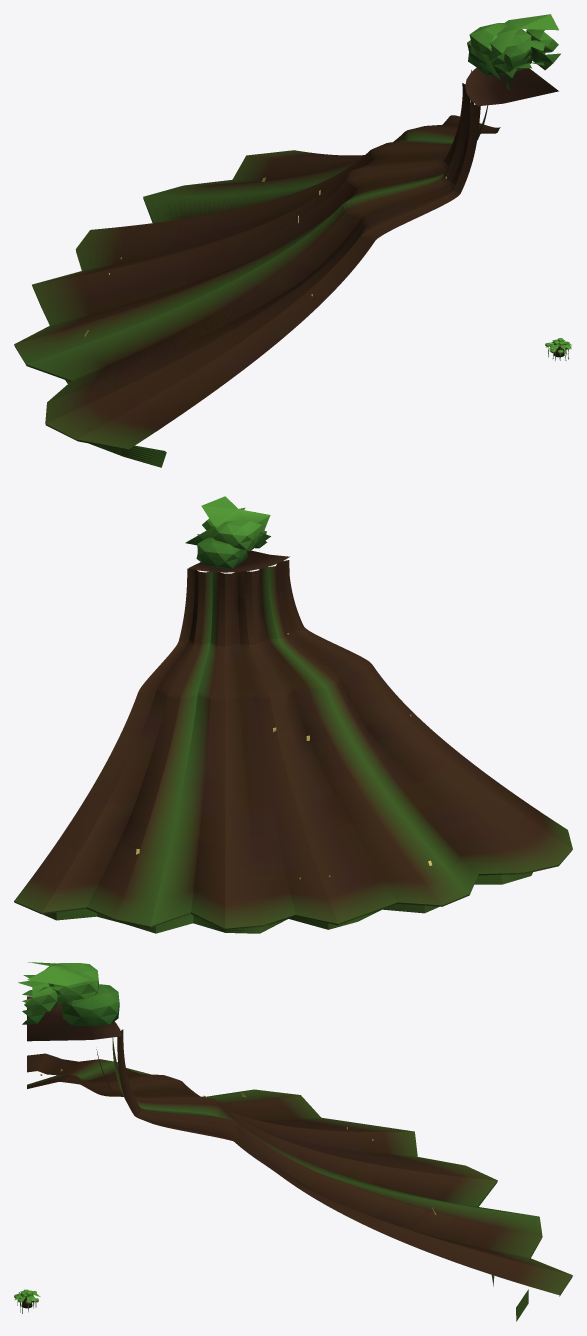
Rendered from swamp-s4-J1xZbywD.glb.
3 views of the same model, one above another, from view 1: azimuth 30°, elevation 25°; view 2: azimuth 150°, elevation 25°; view 3: azimuth 270°, elevation 25° (orthographic). The views are drawn at different scales.
Parts seen in each view (by area): view 1: sc_landmark_1; view 2: sc_landmark_1; view 3: sc_landmark_1.
Part boxes in pixels (left/top/right/bottom): sc_landmark_1: left=14, top=14, right=560, bottom=467; sc_landmark_1: left=14, top=496, right=572, bottom=933; sc_landmark_1: left=18, top=962, right=572, bottom=1321.
Bounding box in the file's own units: 416 × 279 × 413.
